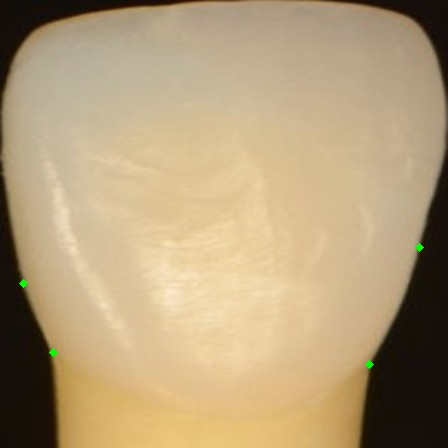coin_1: (369, 364, 389, 384)
coin_2: (419, 247, 439, 267)
coin_3: (53, 352, 73, 372)
coin_4: (23, 283, 43, 303)
